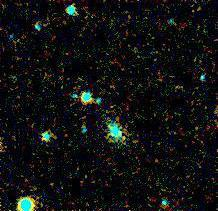star: (109, 123, 139, 153)
